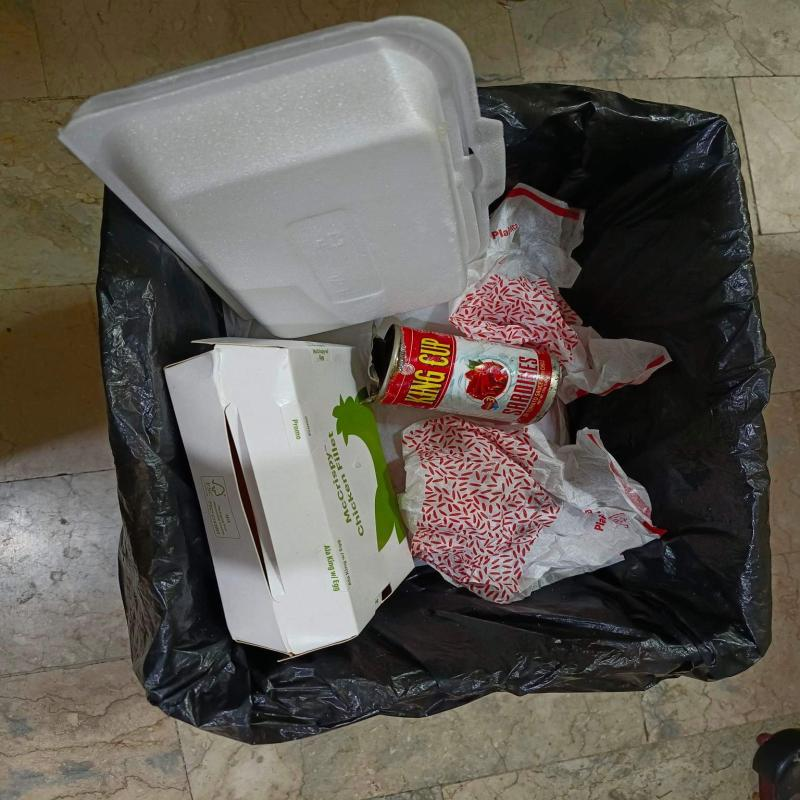aluminum: (370, 320, 555, 425)
cardboard: (162, 338, 415, 658)
paper: (397, 416, 667, 605), (448, 184, 671, 406)
styrofoam containers: (57, 16, 506, 340)
